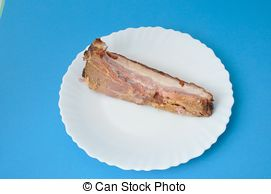bacon: (71, 28, 224, 130)
